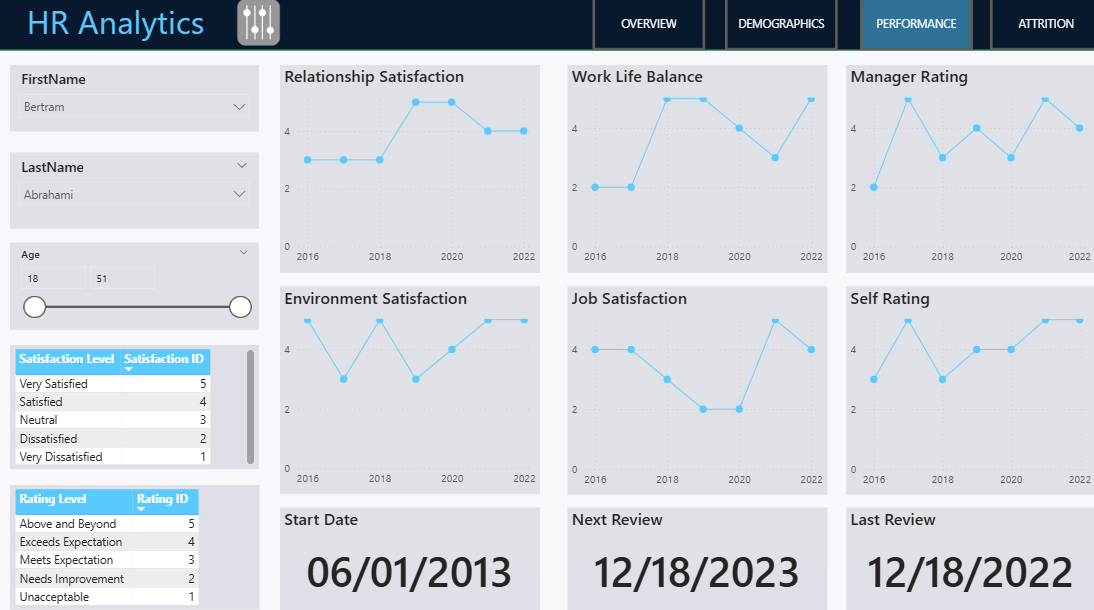

The page's visual inventory and layout, read from the dashboard file:
{"tool":"powerbi","page":{"name":"Performance Tracker","canvas":[1280,720],"ordinal":2},"visuals":[{"type":"shape","box":[0,0,1280,64],"z":0},{"type":"textbox","box":[32,0,624,64],"z":1000},{"type":"image","title":"slicer_showbox","box":[236.6,0,135.6,63.5],"z":1000,"group":"g1"},{"type":"card","title":"Start Date","fields":{"Values":["Min(DimEmployee.HireDate)"]},"box":[328.4,590.9,299.6,118.7],"z":2000},{"type":"card","title":"Last Review","fields":{"Values":["_Measures.LastReviewDate"]},"box":[982.8,590.9,287.6,118.7],"z":4000},{"type":"card","title":"Next Review","fields":{"Values":["_Measures.NextReviewDate"]},"box":[660.4,590.9,299.6,118.7],"z":5000},{"type":"lineChart","title":"Job Satisfaction","fields":{"Y":["_Measures.JobSatisfaction"],"Category":["DimDate.Year"]},"box":[660.4,335.6,299.6,240.9],"z":6000},{"type":"lineChart","title":"Relationship Satisfaction","fields":{"Y":["_Measures.RelationshipSatisfaction"],"Category":["DimDate.Year"]},"box":[328.4,81.5,299.6,239.7],"z":7000},{"type":"lineChart","title":"Self Rating","fields":{"Y":["_Measures.SelfRating"],"Category":["DimDate.Year"]},"box":[982.8,335.6,287.6,240.9],"z":8000},{"type":"lineChart","title":"Work Life Balance","fields":{"Y":["_Measures.WorkLifeBalance"],"Category":["DimDate.Year"]},"box":[660.4,81.5,299.6,239.7],"z":9000},{"type":"lineChart","title":"Manager Rating","fields":{"Y":["_Measures.ManagerRating"],"Category":["DimDate.Year"]},"box":[982.8,81.5,287.6,239.7],"z":10000},{"type":"lineChart","title":"Environment Satisfaction","fields":{"Y":["_Measures.EnvironmentSatisfaction"],"Category":["DimDate.Year"]},"box":[328.3,335.5,300,240.3],"z":11000},{"type":"tableEx","fields":{"Values":["DimRatingLevel.RatingLevel","DimRatingLevel.RatingID"]},"box":[16.8,565.7,287.6,143.8],"z":12000},{"type":"tableEx","fields":{"Values":["DimSatisfiedLevel.SatisfactionLevel","DimSatisfiedLevel.SatisfactionID"]},"box":[17.3,404,287.1,142.8],"z":13000},{"type":"slicer","fields":{"Values":["DimEmployee.FirstName"]},"box":[17.3,80.8,287.1,76.5],"z":14000},{"type":"slicer","fields":{"Values":["DimEmployee.LastName"]},"box":[17.3,181.8,287.1,88],"z":15000},{"type":"slicer","fields":{"Values":["DimEmployee.Age"]},"box":[17.3,285.7,287.1,101],"z":16000},{"type":"actionButton","box":[1148.4,0,130,64],"z":17000},{"type":"actionButton","box":[689.6,0,130,64],"z":18000},{"type":"actionButton","box":[842.6,0,130,64],"z":19000},{"type":"actionButton","box":[998.4,0,130,64],"z":20000},{"type":"group","id":"g1","title":"slicer_1","box":[0,0,1279.3,706.7],"z":21000}]}

Visuals, with their boxes in screenshot pixels (x1, y1, x2, y2), scaled from the page's 1280x720 canvas onto the 1094x610 screenshot:
shape: bbox=[0, 0, 1093, 54]
textbox: bbox=[27, 0, 561, 54]
"slicer_showbox" image: bbox=[202, 0, 318, 54]
"Start Date" card: bbox=[281, 501, 537, 601]
"Last Review" card: bbox=[840, 501, 1086, 601]
"Next Review" card: bbox=[564, 501, 820, 601]
"Job Satisfaction" lineChart: bbox=[564, 284, 820, 488]
"Relationship Satisfaction" lineChart: bbox=[281, 69, 537, 272]
"Self Rating" lineChart: bbox=[840, 284, 1086, 488]
"Work Life Balance" lineChart: bbox=[564, 69, 820, 272]
"Manager Rating" lineChart: bbox=[840, 69, 1086, 272]
"Environment Satisfaction" lineChart: bbox=[281, 284, 537, 488]
tableEx - DimRatingLevel.RatingLevel x DimRatingLevel.RatingID: bbox=[14, 479, 260, 601]
tableEx - DimSatisfiedLevel.SatisfactionLevel x DimSatisfiedLevel.SatisfactionID: bbox=[15, 342, 260, 463]
slicer - DimEmployee.FirstName: bbox=[15, 68, 260, 133]
slicer - DimEmployee.LastName: bbox=[15, 154, 260, 229]
slicer - DimEmployee.Age: bbox=[15, 242, 260, 328]
actionButton: bbox=[982, 0, 1093, 54]
actionButton: bbox=[589, 0, 701, 54]
actionButton: bbox=[720, 0, 831, 54]
actionButton: bbox=[853, 0, 964, 54]
"slicer_1" group: bbox=[0, 0, 1093, 599]
